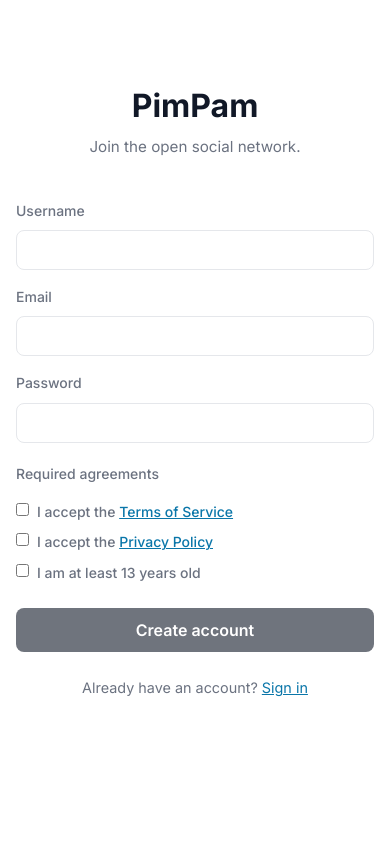
Scenario: Register › disables submit until all consent checkboxes are checked
This screenshot has width=390, height=844.
Expected: the button "Create account" is disabled, [16, 608, 374, 652]
Click the checkbox labelled "I accept the Terms of Service" at (22,510), box [16, 503, 29, 516]
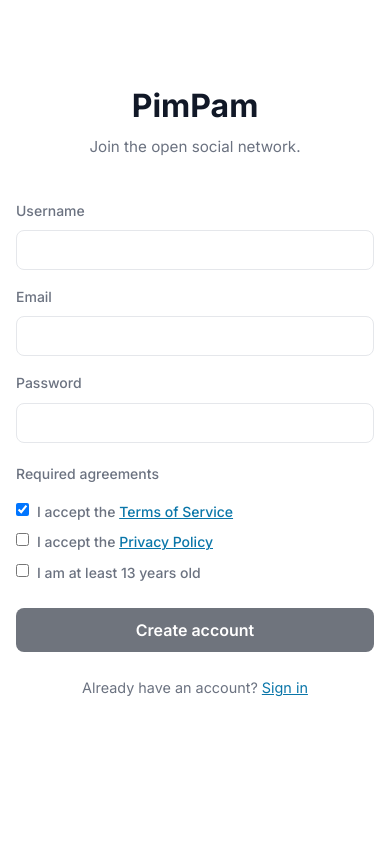
Expected: the button "Create account" is disabled, [16, 608, 374, 652]
Click the checkbox labelled "I accept the Privacy Policy" at (22,540), box [16, 534, 29, 546]
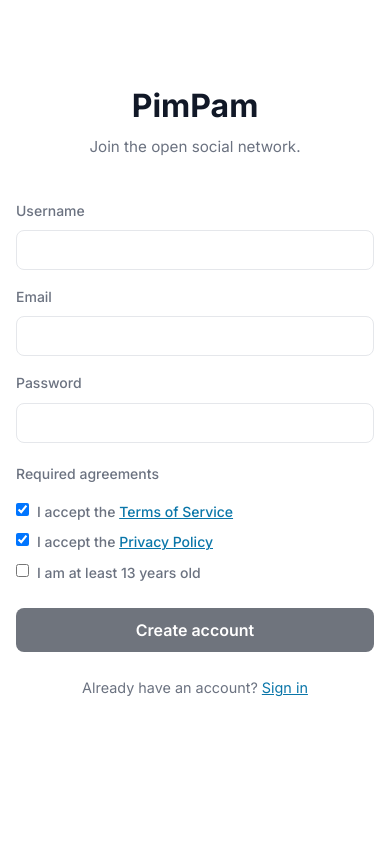
Expected: the button "Create account" is disabled, [16, 608, 374, 652]
Click the checkbox labelled "I am at least 13 years old" at (22,570), box [16, 564, 29, 577]
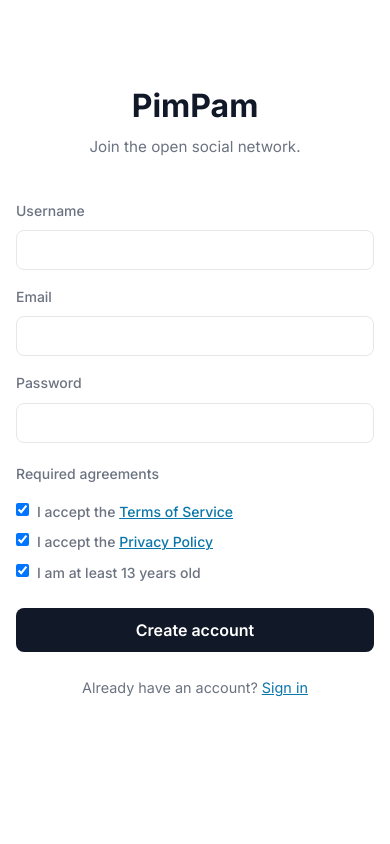
Expected: the button "Create account" is enabled, [16, 608, 374, 652]
